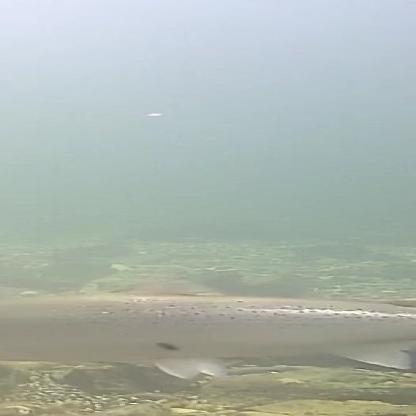salmon: (0, 272, 415, 384)
